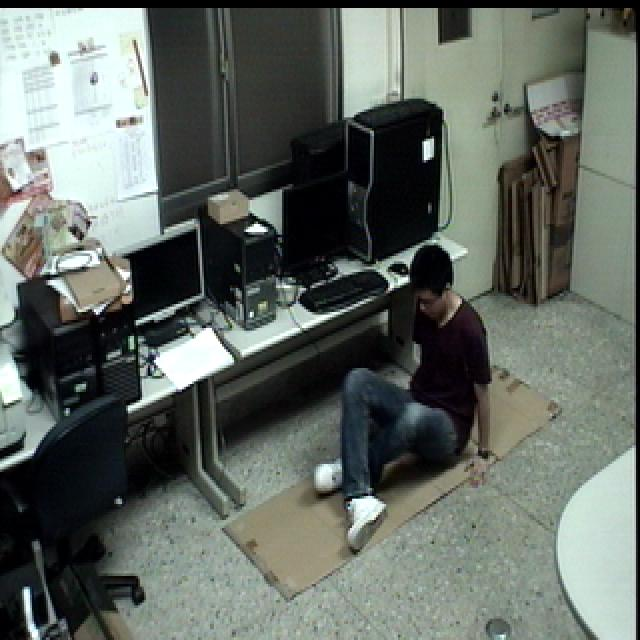sit: (311, 234, 500, 553)
